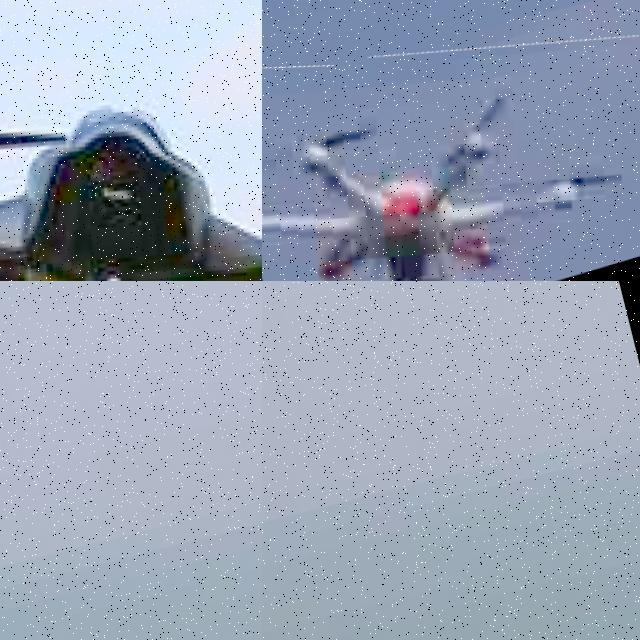0: (262, 0, 640, 281)
drone: (0, 0, 262, 281)
